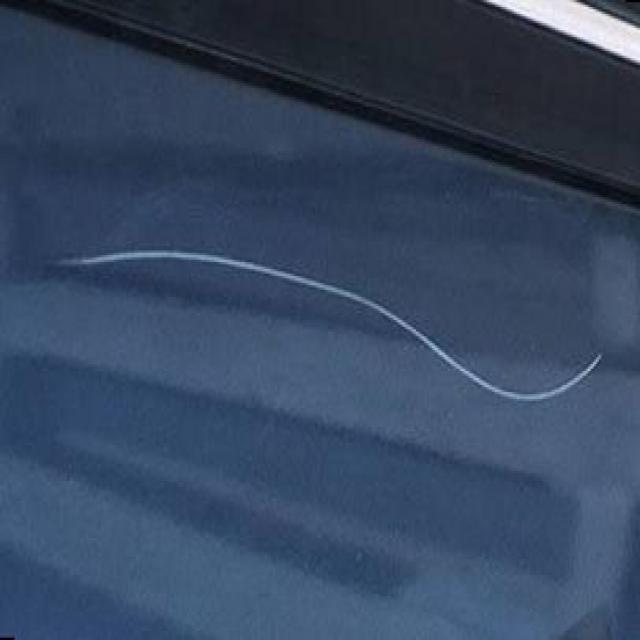scratch: (50, 245, 608, 410)
